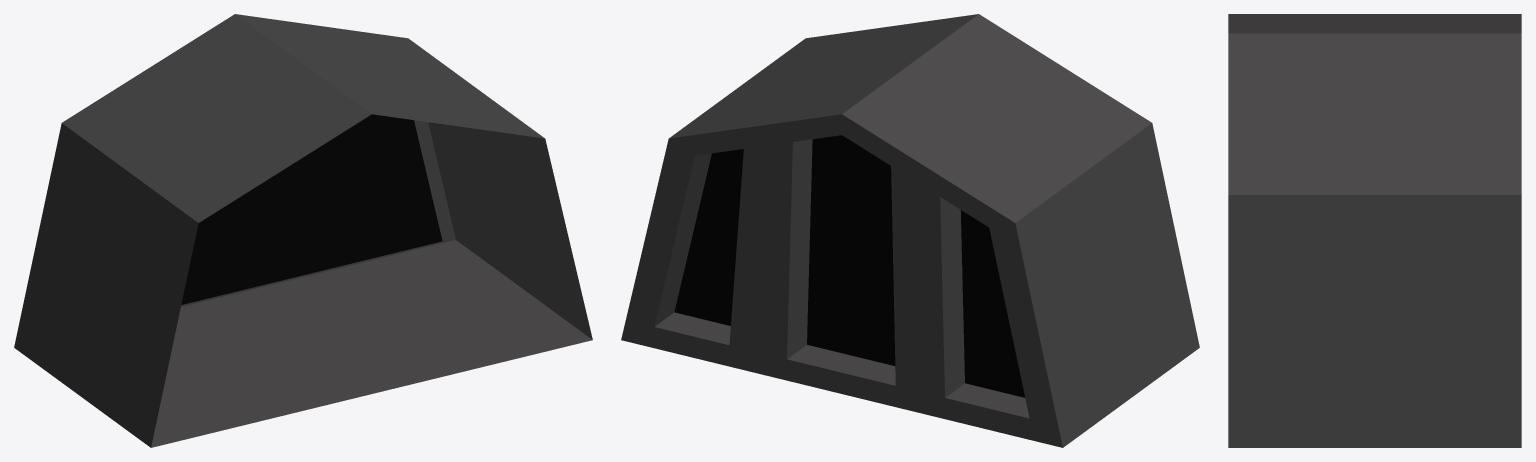
File: floor-ventilation.fbx
3 renders of one model, left to right at view 1: azimuth 30°, elevation 25°; view 2: azimuth 150°, elevation 25°; view 3: azimuth 270°, elevation 25°, orthographic. The views are drawn at different scales.
Parts seen in each view (by area): view 1: floor--ventilation; view 2: floor--ventilation; view 3: floor--ventilation.
Boxes of the visible parts, <box> form: floor--ventilation: <box>14,14,592,447</box>; floor--ventilation: <box>621,14,1199,447</box>; floor--ventilation: <box>1228,14,1521,447</box>.
Bounding box in the file's own units: 69.94 × 42.32 × 37.55.
